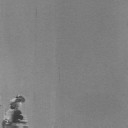slag inclusion: (2, 94, 29, 128)
